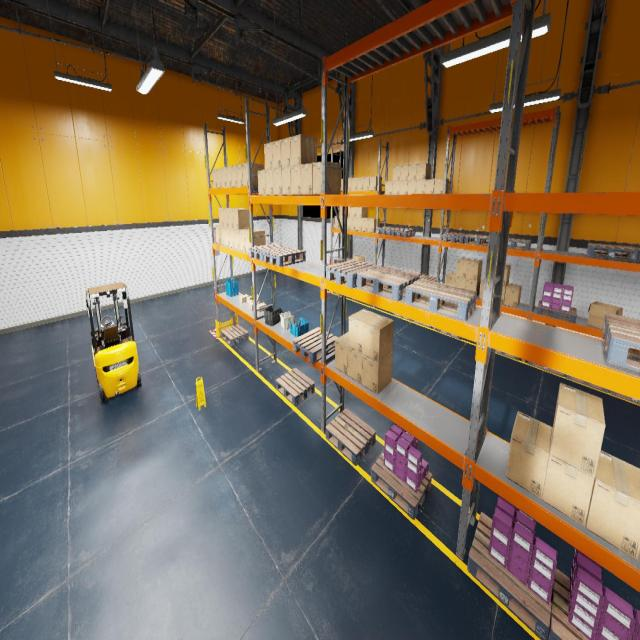box: (586, 450, 640, 560), (550, 382, 605, 478), (542, 428, 594, 527), (506, 411, 552, 499), (362, 314, 393, 362), (348, 309, 378, 354), (362, 351, 392, 394), (587, 301, 623, 330), (312, 162, 340, 194), (290, 134, 317, 166), (282, 166, 306, 195), (335, 332, 348, 375), (348, 346, 362, 384), (242, 163, 263, 186), (245, 230, 265, 252), (504, 283, 521, 308), (239, 229, 256, 251), (232, 209, 250, 229), (492, 283, 508, 305), (273, 168, 286, 195), (301, 163, 312, 194), (223, 208, 240, 228), (495, 264, 510, 286), (466, 260, 482, 280), (456, 258, 471, 278), (291, 165, 301, 194), (465, 278, 481, 296), (228, 208, 242, 228), (218, 207, 232, 227), (281, 137, 290, 167), (416, 163, 431, 180), (272, 140, 281, 168), (264, 142, 272, 170), (434, 178, 448, 194), (265, 169, 273, 195), (258, 169, 265, 195), (369, 176, 382, 190), (368, 218, 380, 232), (236, 164, 243, 187), (230, 165, 237, 187), (445, 272, 456, 286), (424, 179, 434, 194), (408, 164, 417, 180), (400, 165, 409, 180), (361, 218, 371, 231), (407, 180, 416, 194), (455, 277, 466, 288), (216, 168, 222, 188), (416, 180, 425, 193), (399, 181, 408, 194), (393, 165, 400, 181), (356, 207, 367, 217), (226, 166, 231, 187), (392, 181, 400, 194), (221, 167, 226, 187), (234, 230, 239, 250), (229, 228, 234, 248), (212, 169, 217, 188), (385, 181, 392, 194), (257, 302, 266, 312), (249, 294, 259, 303), (224, 228, 229, 246), (353, 255, 365, 262), (249, 302, 259, 310), (480, 279, 484, 299), (363, 177, 369, 190), (351, 178, 357, 191), (220, 226, 224, 245), (216, 225, 220, 244), (334, 216, 340, 228), (239, 295, 249, 302), (357, 177, 362, 191), (356, 218, 361, 231), (350, 217, 355, 230), (350, 207, 356, 217), (348, 178, 351, 191), (347, 218, 350, 230), (347, 207, 350, 217), (247, 296, 251, 303), (340, 178, 342, 191), (340, 217, 342, 228), (340, 206, 342, 216)
forklift: (86, 282, 141, 403)
pallets: (467, 512, 552, 639), (371, 450, 432, 520), (405, 279, 477, 321), (548, 568, 589, 640), (326, 408, 376, 465), (602, 313, 640, 372), (357, 266, 419, 300), (293, 327, 338, 363), (326, 260, 379, 288), (276, 368, 314, 405), (586, 243, 638, 261), (536, 300, 576, 323), (263, 247, 306, 267), (565, 374, 609, 393), (248, 243, 288, 260), (220, 324, 248, 346), (528, 361, 564, 377), (609, 390, 640, 404), (498, 238, 531, 250), (442, 232, 470, 243), (465, 234, 489, 246), (495, 350, 519, 360), (437, 329, 461, 339), (376, 227, 400, 236), (391, 228, 415, 237), (411, 319, 432, 328), (420, 274, 440, 282), (333, 257, 352, 264), (392, 313, 410, 320), (400, 270, 420, 276), (635, 247, 640, 261), (334, 292, 347, 296), (383, 267, 400, 270)
